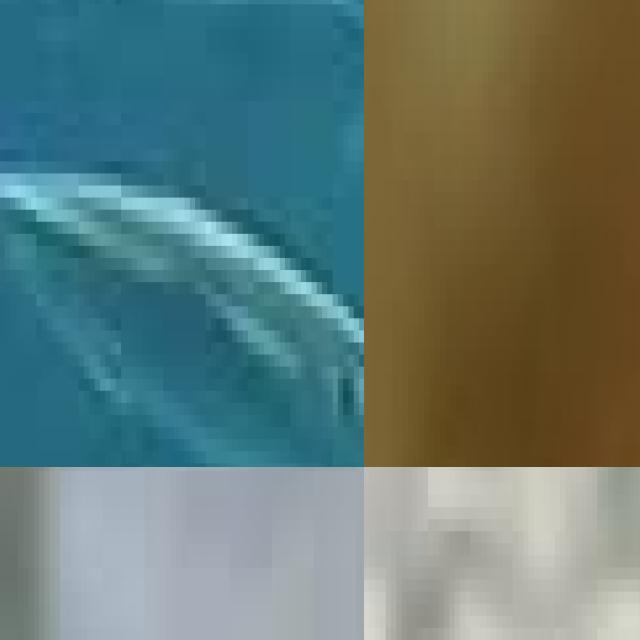fish: (0, 0, 364, 467), (129, 467, 364, 640)
